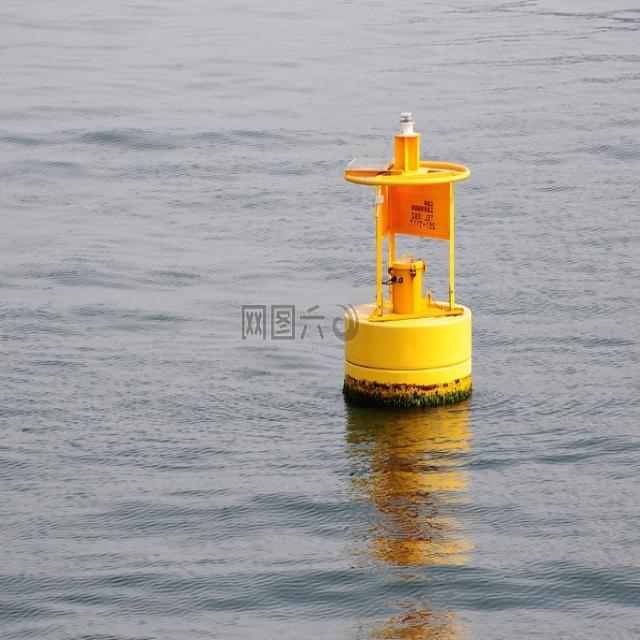buoy: (334, 105, 479, 403)
